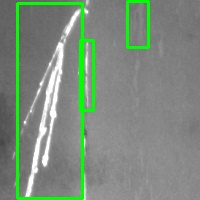inclusion: (127, 1, 148, 47)
scratches: (17, 3, 82, 198), (78, 129, 92, 199), (80, 40, 93, 110)
